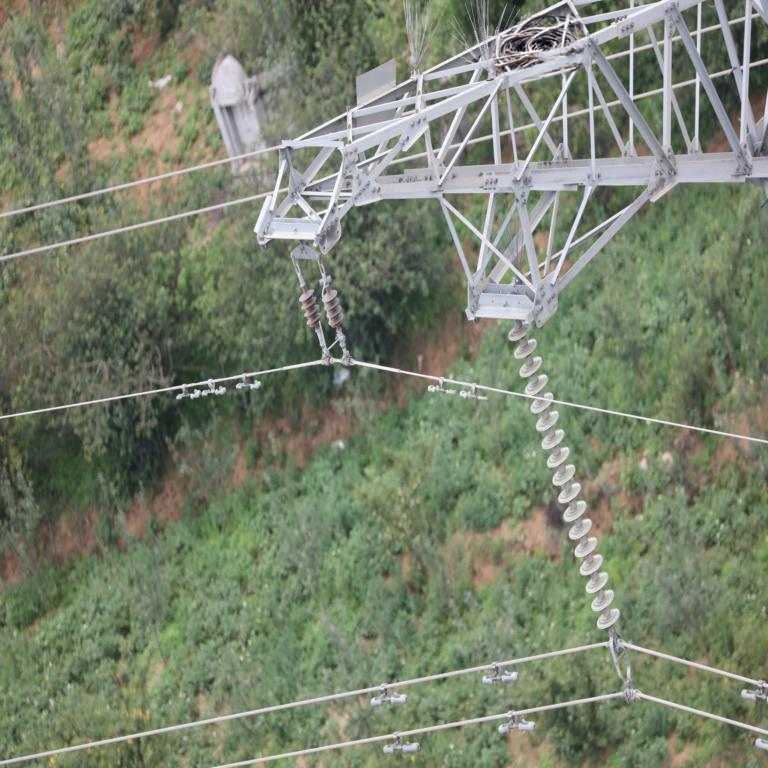nest: (492, 21, 574, 71)
